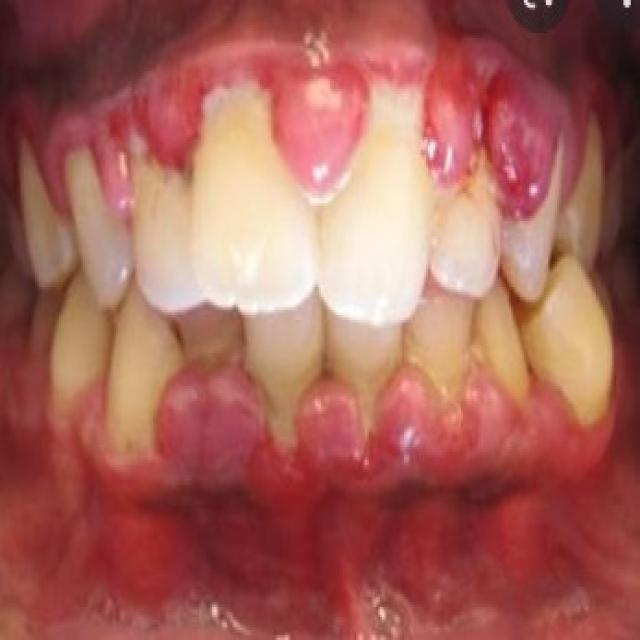Gingivitis: (280, 58, 358, 185), (478, 71, 546, 213), (169, 367, 237, 469)
